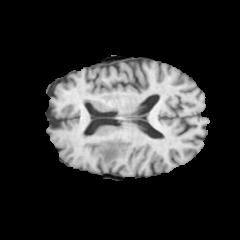glioma: (86, 135, 132, 165)
